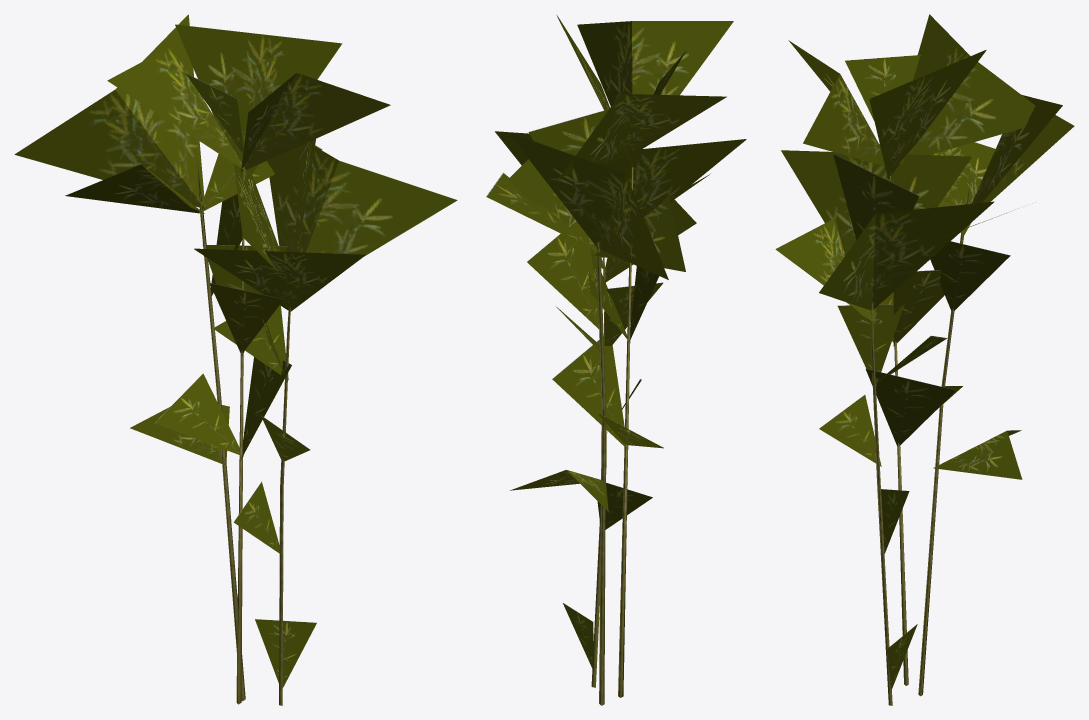
File: leaf_bamboo_tri_yllw_l1.fbx
The picture shows the model from 3 angles, left to right: view 1: azimuth 30°, elevation 25°; view 2: azimuth 150°, elevation 25°; view 3: azimuth 270°, elevation 25°; orthographic projection. The views are drawn at different scales.
Visible parts, largest first — view 1: mesh_node; view 2: mesh_node; view 3: mesh_node.
Part boxes in pixels (bbox=[...]): mesh_node: bbox=[14, 14, 457, 705]; mesh_node: bbox=[486, 15, 746, 705]; mesh_node: bbox=[775, 14, 1074, 705].
Bounding box in the file's own units: 5.64 × 11.46 × 4.94.
2 materials, 2 textured.
